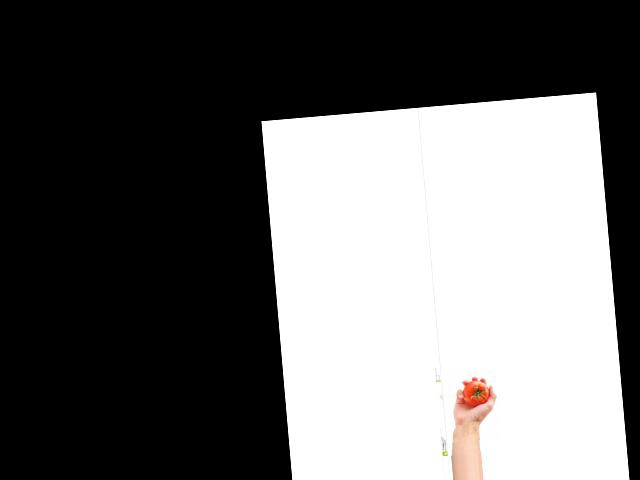tomato: (461, 379, 489, 406)
